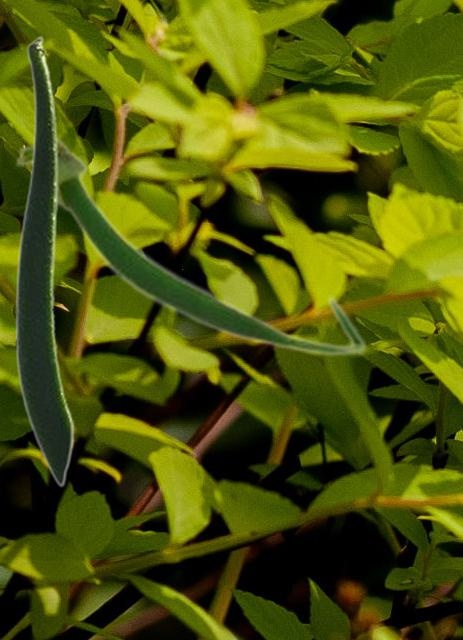french_bean: (13, 134, 367, 357), (14, 35, 74, 487)
